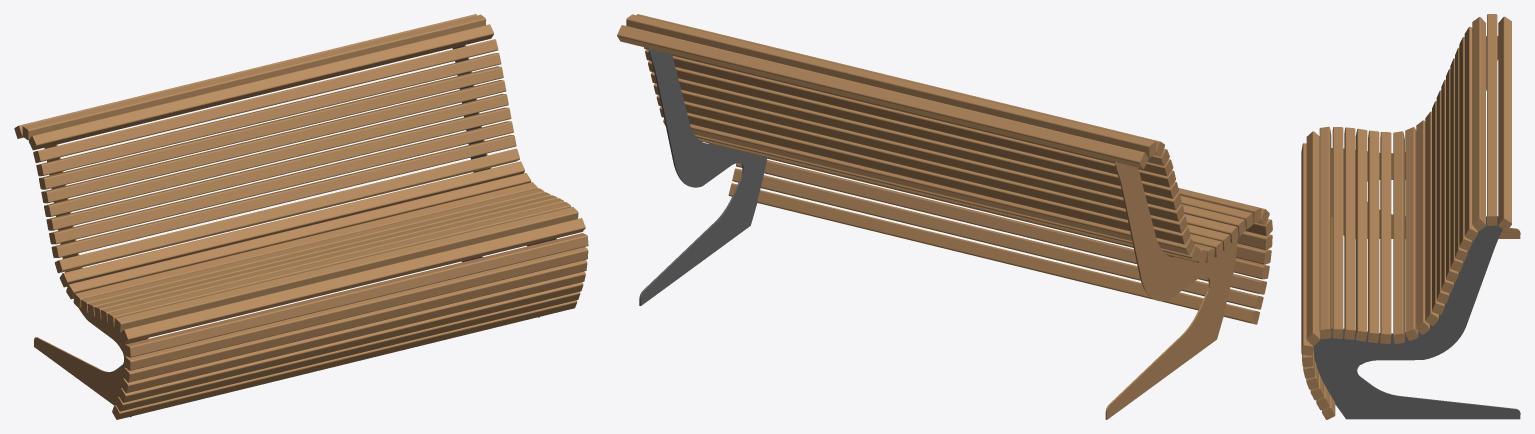
File: Skamya_9.glb
3 renders of one model, left to right at view 1: azimuth 30°, elevation 25°; view 2: azimuth 150°, elevation 25°; view 3: azimuth 270°, elevation 25°, orthographic. The views are drawn at different scales.
Visible parts, largest first — view 1: Mesh 5940, Mesh 7062; view 2: Mesh 5940, Mesh 7062, Mesh 6504; view 3: Mesh 5940, Mesh 6504, Mesh 7062.
Boxes of the visible parts, bbox=[...] form: Mesh 5940: bbox=[14, 14, 588, 419]; Mesh 7062: bbox=[34, 144, 148, 417]; Mesh 5940: bbox=[617, 14, 1272, 324]; Mesh 7062: bbox=[1105, 162, 1237, 419]; Mesh 6504: bbox=[639, 48, 767, 305]; Mesh 5940: bbox=[1301, 14, 1511, 419]; Mesh 6504: bbox=[1313, 216, 1520, 419]; Mesh 7062: bbox=[1331, 36, 1520, 238].
Size of the model in its own units: 1.8 by 0.8875 by 0.8239.
